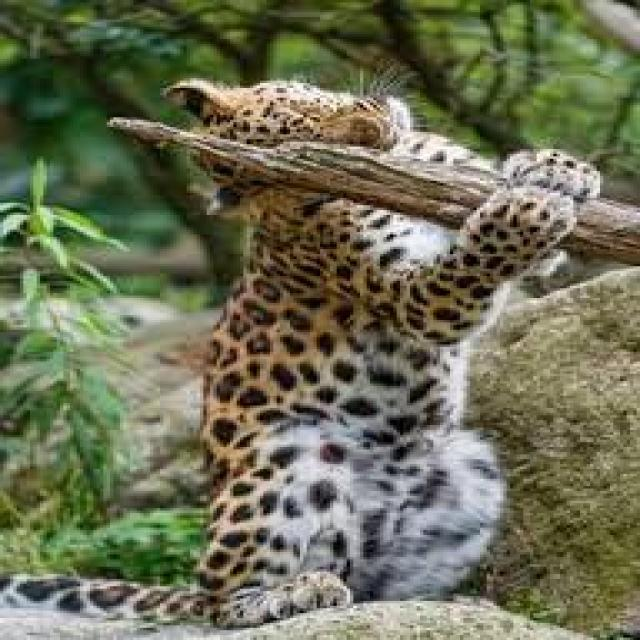Jaguar: (190, 63, 590, 638)
